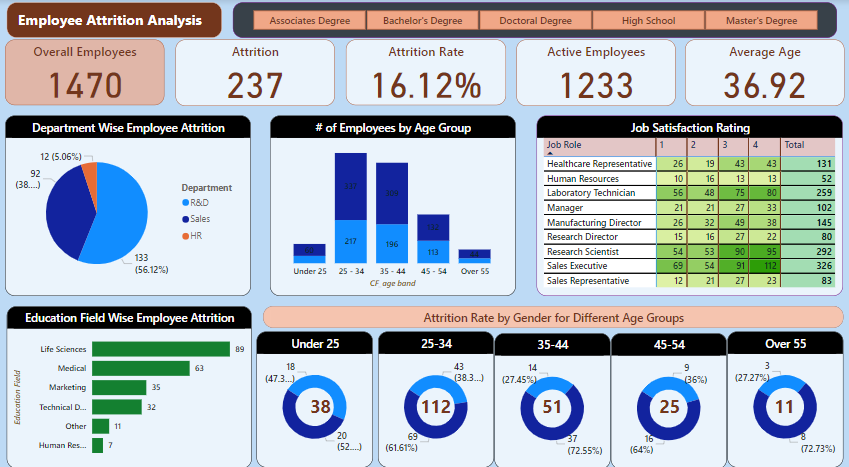

This screenshot's page, from the dashboard's own definition file:
{"tool":"powerbi","page":{"name":"HR Analytics Dashboard","canvas":[1280,720],"ordinal":0},"visuals":[{"type":"card","title":"Overall Employees","fields":{"Values":["Sum(HR data.Employee Count)"]},"box":[8.3,61.5,239.9,99.1],"z":0},{"type":"card","title":"Attrition ","fields":{"Values":["Sum(HR data.Attrition Count)"]},"box":[264.9,61.5,239.9,100.1],"z":1000},{"type":"card","title":"Attrition Rate","fields":{"Values":["HR data.Attrition Rate"]},"box":[520.4,61.5,240.9,99.1],"z":2000},{"type":"card","title":"Active Employees","fields":{"Values":["HR data.Active employees"]},"box":[778,61.5,239.9,100.1],"z":3000},{"type":"card","title":"Average Age","fields":{"Values":["Avg(HR data.Age)"]},"box":[1031.4,61.5,239.9,100.1],"z":4000},{"type":"pieChart","title":"Department Wise Employee Attrition","fields":{"Category":["HR data.Department"],"Y":["Sum(HR data.Attrition Count)"]},"box":[8.4,175.8,370.2,272.1],"z":5000},{"type":"columnChart","title":"# of Employees by Age Group","fields":{"Category":["HR data.CF_age band"],"Y":["Sum(HR data.Employee Count)"],"Series":["HR data.Gender"]},"box":[407.6,175.8,370.2,272.1],"z":6000},{"type":"pivotTable","title":"Job Satisfaction Rating","fields":{"Rows":["HR data.Job Role"],"Columns":["HR data.Job Satisfaction"],"Values":["Sum(HR data.Employee Count)"]},"box":[809.6,175.8,461.8,272.1],"z":7000},{"type":"barChart","title":"Education Field Wise Employee Attrition","fields":{"Category":["HR data.Education Field"],"Y":["Sum(HR data.Attrition Count)"]},"box":[9.3,461.8,369.3,244.9],"z":8000},{"type":"donutChart","title":"Under 25","fields":{"Category":["HR data.Gender"],"Y":["Sum(HR data.Attrition Count)"],"Series":["HR data.CF_age band"]},"box":[385.4,500,175.6,204.9],"z":9000},{"type":"textbox","title":"Attrition Rate by Gender for Different Age Groups","box":[395.5,461.8,874.1,32.7],"z":10000},{"type":"donutChart","title":"25-34","fields":{"Category":["HR data.Gender"],"Y":["Sum(HR data.Attrition Count)"],"Series":["HR data.CF_age band"]},"box":[570.3,502,174.8,204.7],"z":11000},{"type":"donutChart","title":"35-44","fields":{"Category":["HR data.Gender"],"Y":["Sum(HR data.Attrition Count)"],"Series":["HR data.CF_age band"]},"box":[745.1,503,174.8,204.7],"z":12000},{"type":"donutChart","title":"45-54","fields":{"Category":["HR data.Gender"],"Y":["Sum(HR data.Attrition Count)"],"Series":["HR data.CF_age band"]},"box":[919.9,503,174.8,204.7],"z":13000},{"type":"donutChart","title":"Over 55","fields":{"Category":["HR data.Gender"],"Y":["Sum(HR data.Attrition Count)"],"Series":["HR data.CF_age band"]},"box":[1094.8,502,174.8,204.7],"z":14000},{"type":"card","fields":{"Values":["Sum(HR data.Attrition Count)"]},"box":[459,597.4,45.8,33.7],"z":15000},{"type":"card","fields":{"Values":["Sum(HR data.Attrition Count)"]},"box":[628.8,597.5,57.4,33.4],"z":16000},{"type":"card","fields":{"Values":["Sum(HR data.Attrition Count)"]},"box":[806.1,597.5,53.2,33.4],"z":17000},{"type":"card","fields":{"Values":["Sum(HR data.Attrition Count)"]},"box":[985.4,597.4,45.8,33.7],"z":18000},{"type":"card","fields":{"Values":["Sum(HR data.Attrition Count)"]},"box":[1160.2,597.4,45.8,33.7],"z":19000},{"type":"textbox","box":[9.4,4.2,324.3,53.2],"z":20000},{"type":"slicer","fields":{"Values":["HR data.Education"]},"box":[351,4.1,910.2,53.1],"z":21000}]}

Visuals, with their boxes in screenshot pixels (x1, y1, x2, y2), scaled from the page's 1280x720 canvas onto the 849x467 screenshot:
"Overall Employees" card: x1=6, y1=40, x2=165, y2=104
"Attrition " card: x1=176, y1=40, x2=335, y2=105
"Attrition Rate" card: x1=345, y1=40, x2=505, y2=104
"Active Employees" card: x1=516, y1=40, x2=675, y2=105
"Average Age" card: x1=684, y1=40, x2=843, y2=105
"Department Wise Employee Attrition" pieChart: x1=6, y1=114, x2=251, y2=291
"# of Employees by Age Group" columnChart: x1=270, y1=114, x2=516, y2=291
"Job Satisfaction Rating" pivotTable: x1=537, y1=114, x2=843, y2=291
"Education Field Wise Employee Attrition" barChart: x1=6, y1=300, x2=251, y2=458
"Under 25" donutChart: x1=256, y1=324, x2=372, y2=457
"Attrition Rate by Gender for Different Age Groups" textbox: x1=262, y1=300, x2=842, y2=321
"25-34" donutChart: x1=378, y1=326, x2=494, y2=458
"35-44" donutChart: x1=494, y1=326, x2=610, y2=459
"45-54" donutChart: x1=610, y1=326, x2=726, y2=459
"Over 55" donutChart: x1=726, y1=326, x2=842, y2=458
card - Sum(HR data.Attrition Count): x1=304, y1=387, x2=335, y2=409
card - Sum(HR data.Attrition Count): x1=417, y1=388, x2=455, y2=409
card - Sum(HR data.Attrition Count): x1=535, y1=388, x2=570, y2=409
card - Sum(HR data.Attrition Count): x1=654, y1=387, x2=684, y2=409
card - Sum(HR data.Attrition Count): x1=770, y1=387, x2=800, y2=409
textbox: x1=6, y1=3, x2=221, y2=37
slicer - HR data.Education: x1=233, y1=3, x2=837, y2=37
